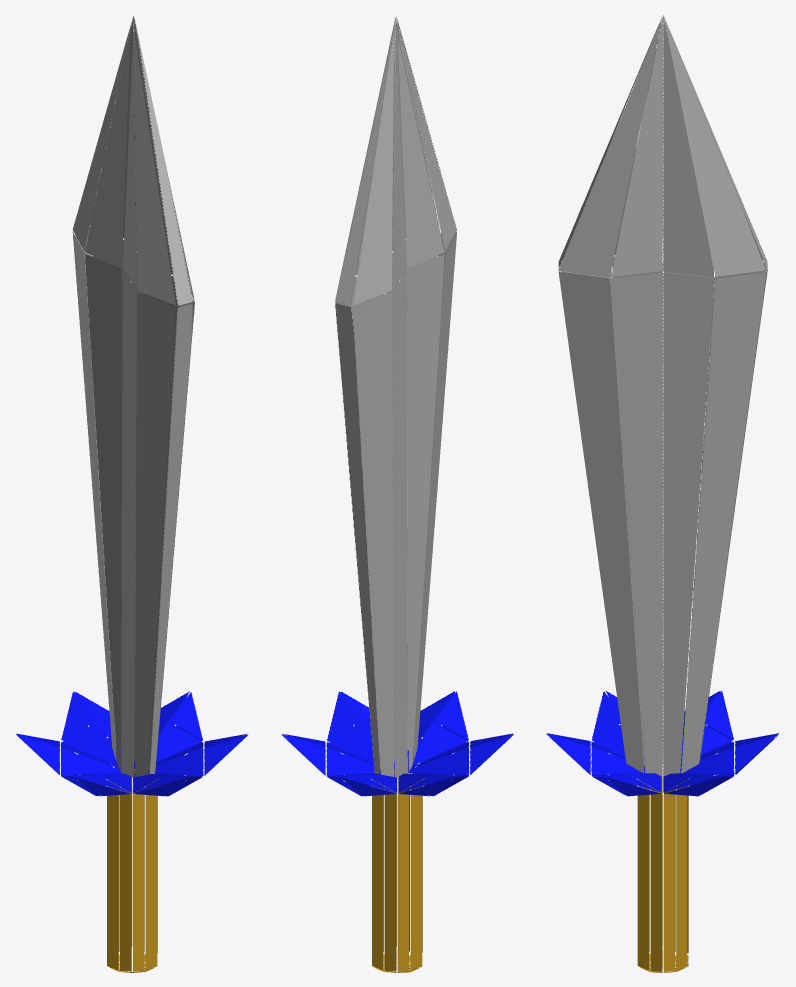
File: Espada.fbx
The picture shows the model from 3 angles, left to right: view 1: azimuth 30°, elevation 25°; view 2: azimuth 150°, elevation 25°; view 3: azimuth 270°, elevation 25°; orthographic projection.
Parts seen in each view (by area): view 1: Circle.002; view 2: Circle.002; view 3: Circle.002.
Part boxes in pixels (left/top/right/bottom): Circle.002: left=16, top=15, right=248, bottom=972; Circle.002: left=281, top=16, right=513, bottom=972; Circle.002: left=546, top=15, right=778, bottom=972.
Bounding box in the file's own units: 102 × 527 × 118.
